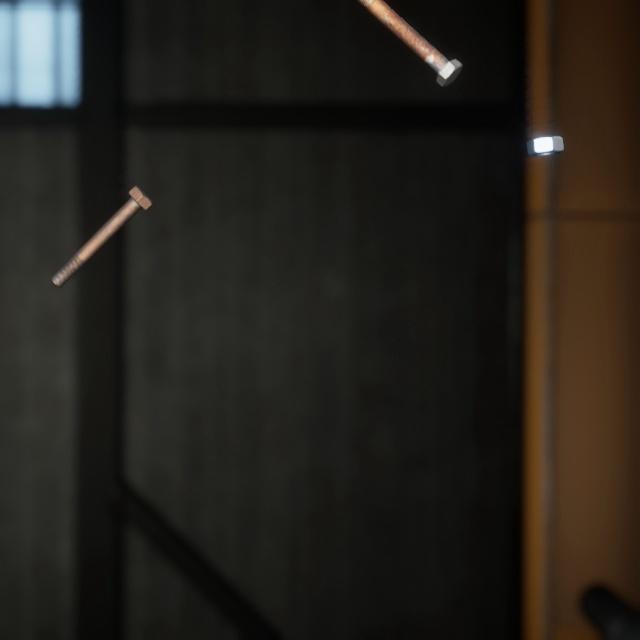bolt: (46, 165, 158, 276), (359, 0, 466, 83)
nut: (522, 118, 568, 147)
